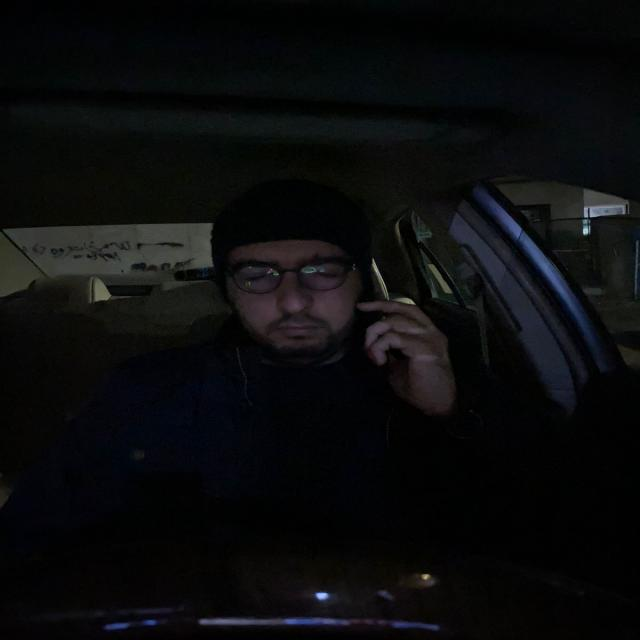drowsy: (205, 175, 382, 362)
